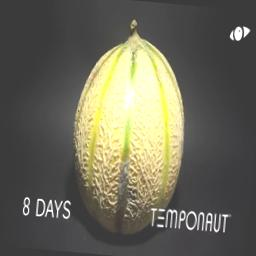Melon Ripe: (60, 12, 197, 232)
